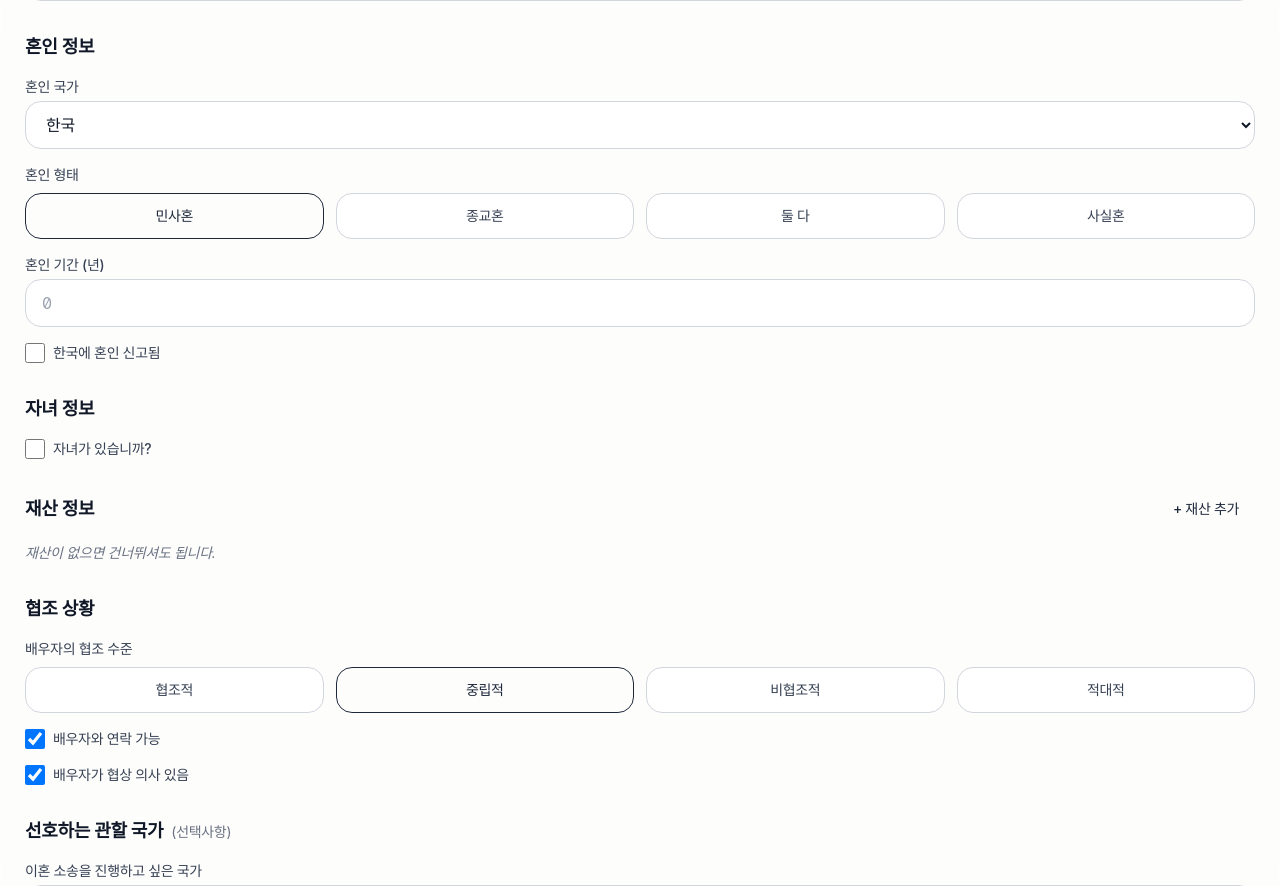
Scenario: InternationalDivorceForm › shows children fields when checkbox is checked
(page scrolled)
Click the checkbox
Click the checkbox labelled "자녀가 있습니까?": (35,449) [25,439,45,459]
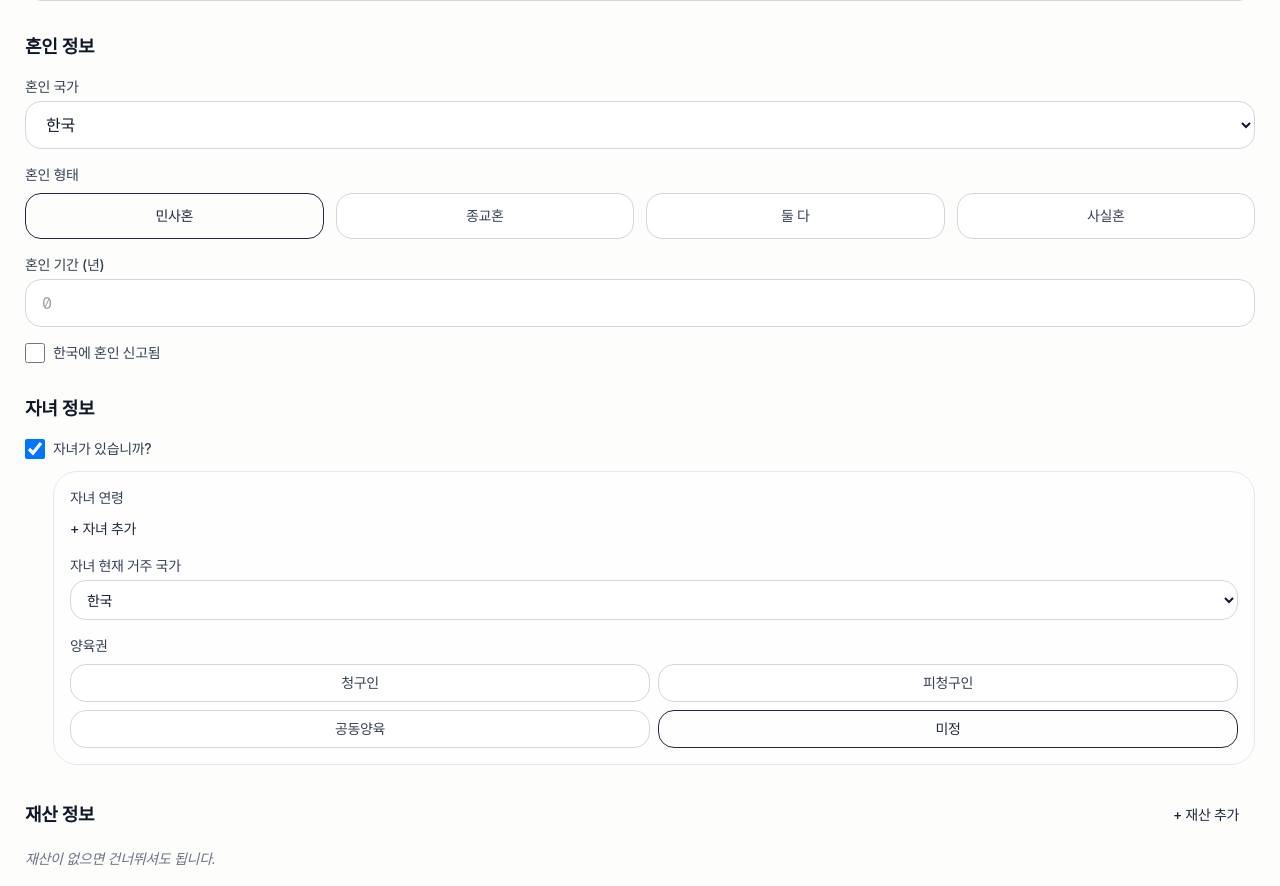
Now the text "자녀 연령" is shown, box [70,489,124,506]
Now the text "자녀 현재 거주 국가" is shown, box [70,557,181,574]
Now the text "양육권" is shown, box [70,637,108,654]
